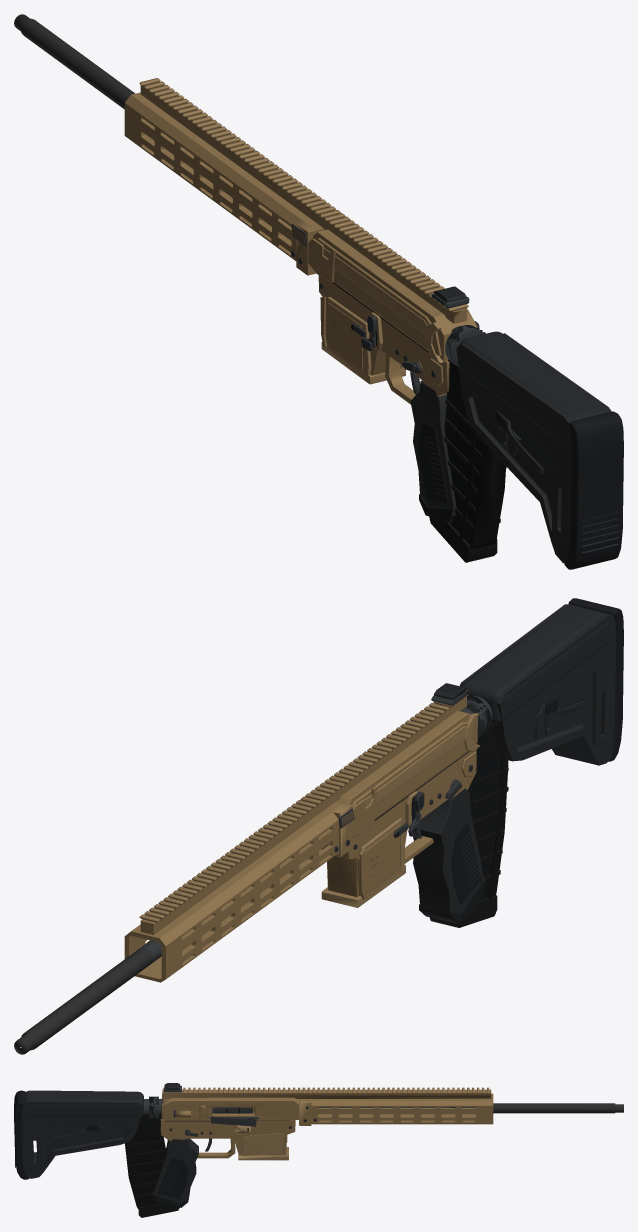
The model's file is weapon-42-tu37Wsp9.glb.
The picture shows the model from 3 angles, top to bottom: view 1: azimuth 30°, elevation 25°; view 2: azimuth 150°, elevation 25°; view 3: azimuth 270°, elevation 25°; orthographic projection. The views are drawn at different scales.
Visible parts, largest first — view 1: salient_weapon_body, salient_weapon_magazine; view 2: salient_weapon_body, salient_weapon_magazine; view 3: salient_weapon_body, salient_weapon_magazine.
Boxes of the visible parts, box(x1,y1,x2,y2) form: salient_weapon_body: box(14, 14, 623, 569); salient_weapon_magazine: box(429, 359, 506, 562); salient_weapon_body: box(14, 598, 623, 1054); salient_weapon_magazine: box(429, 723, 508, 927); salient_weapon_body: box(14, 1083, 623, 1207); salient_weapon_magazine: box(125, 1115, 179, 1217).
Size of the model in its own units: 0.0549 by 0.2289 by 0.98.
Materials: 14 (5 with a texture image).
